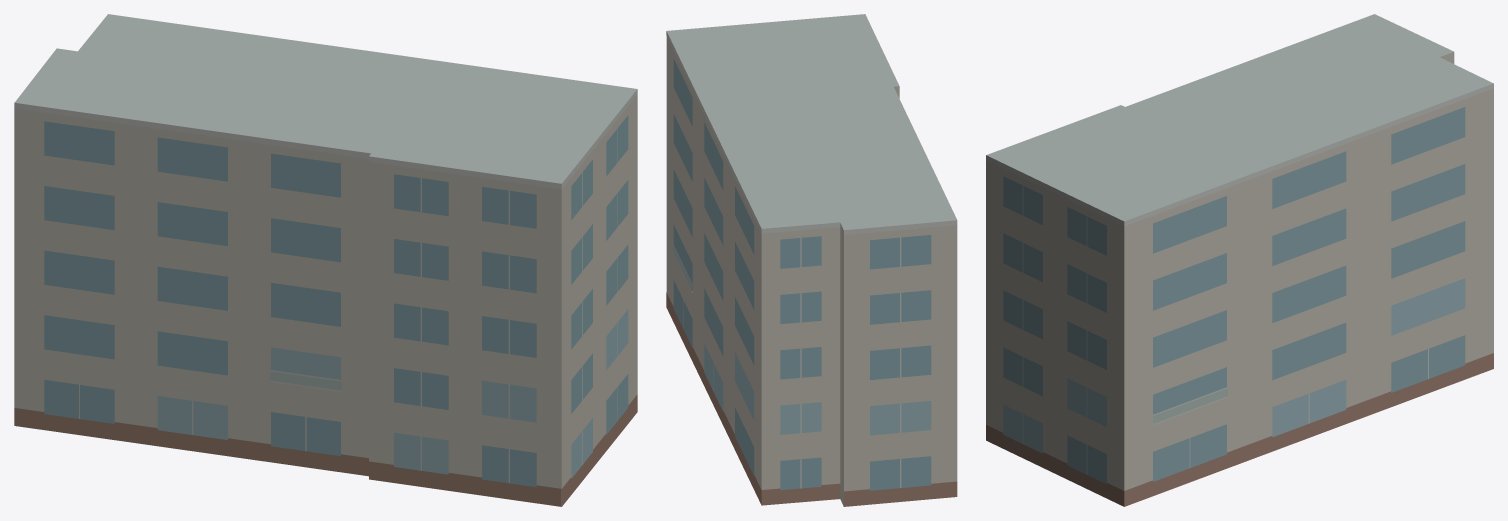
Rendered from survey-upis-32759161.glb.
The picture shows the model from 3 angles, left to right: view 1: azimuth 30°, elevation 25°; view 2: azimuth 150°, elevation 25°; view 3: azimuth 270°, elevation 25°; orthographic projection. The views are drawn at different scales.
Parts seen in each view (by area): view 1: survey-upis-32759161.tmp; view 2: survey-upis-32759161.tmp; view 3: survey-upis-32759161.tmp.
Boxes of the visible parts, box(x1,y1,x2,y2) form: survey-upis-32759161.tmp: box(14, 14, 637, 506); survey-upis-32759161.tmp: box(666, 14, 957, 506); survey-upis-32759161.tmp: box(986, 14, 1493, 506).
Bounding box in the file's own units: 21.99 × 14.1 × 22.74.
